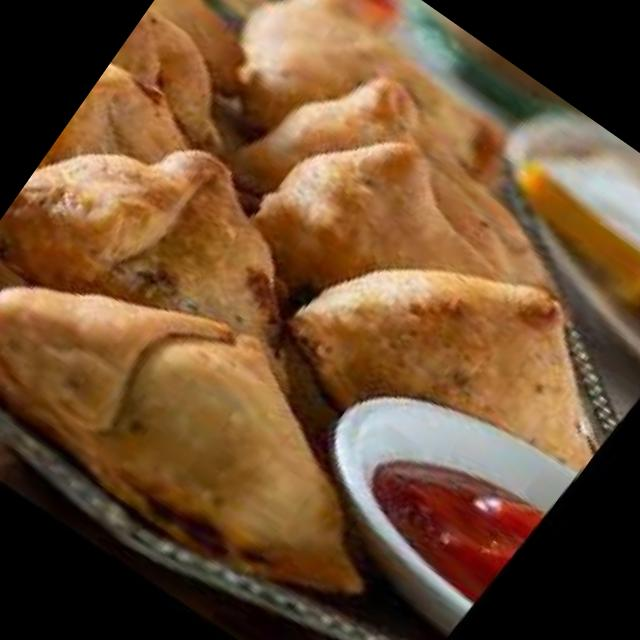samosa: (0, 185, 461, 640), (208, 24, 614, 391), (0, 74, 385, 453), (263, 184, 640, 552), (217, 90, 551, 412), (198, 0, 515, 247), (21, 58, 212, 259), (96, 2, 273, 167)
